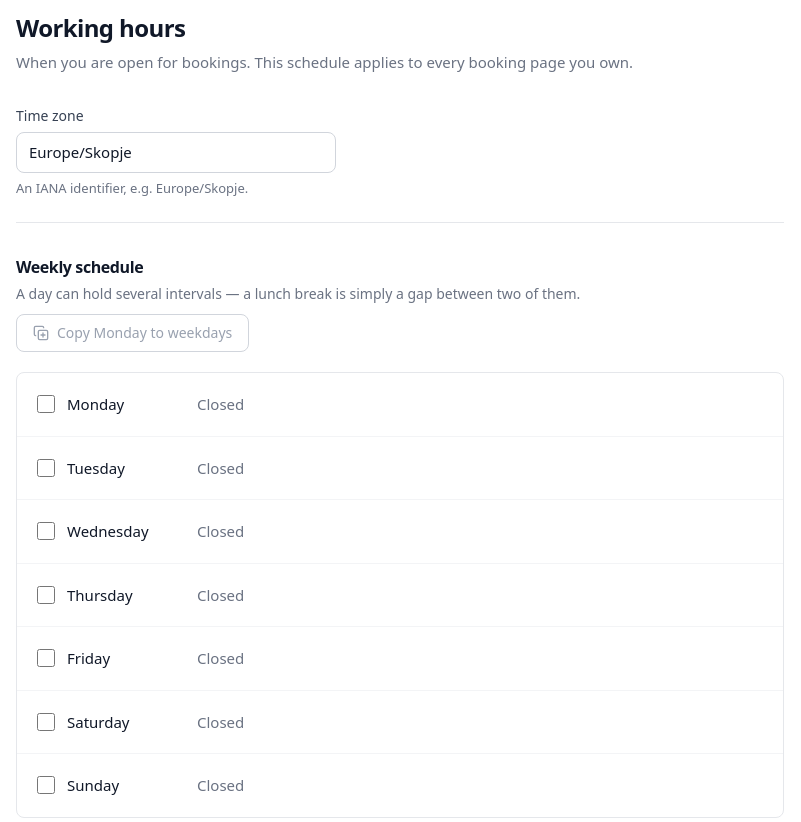
Test: WorkingHoursPage — a day switched on with no hours › appears as soon as a day is switched on, before anything is saved
Click the checkbox labelled "Wednesday" at (46, 531), box [37,522,55,540]
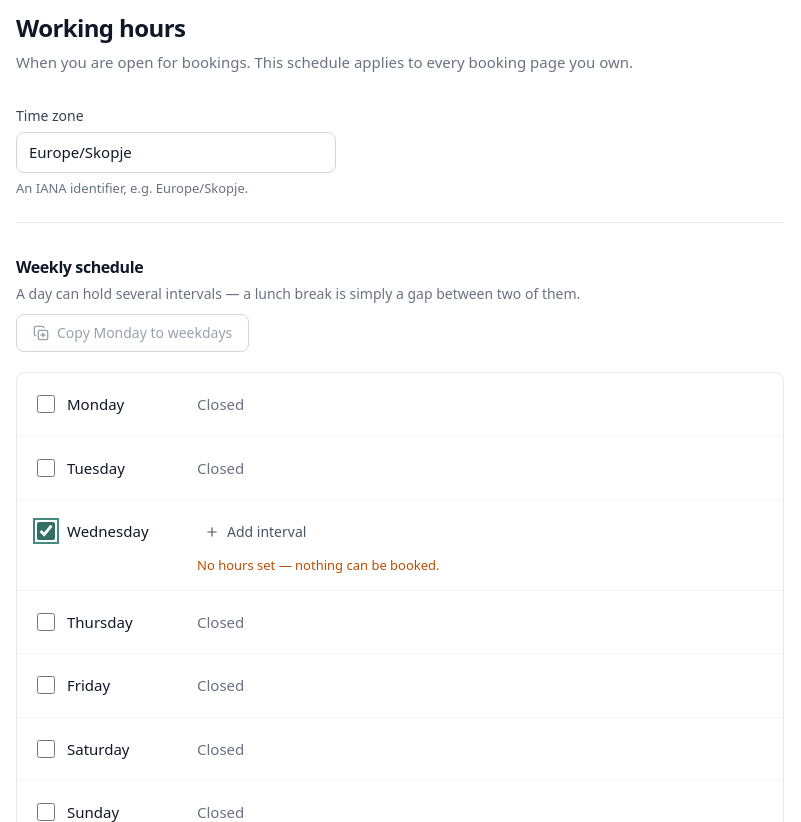
Expected: the text "No hours set — nothing can be booked." is shown, [197,556,440,576]
